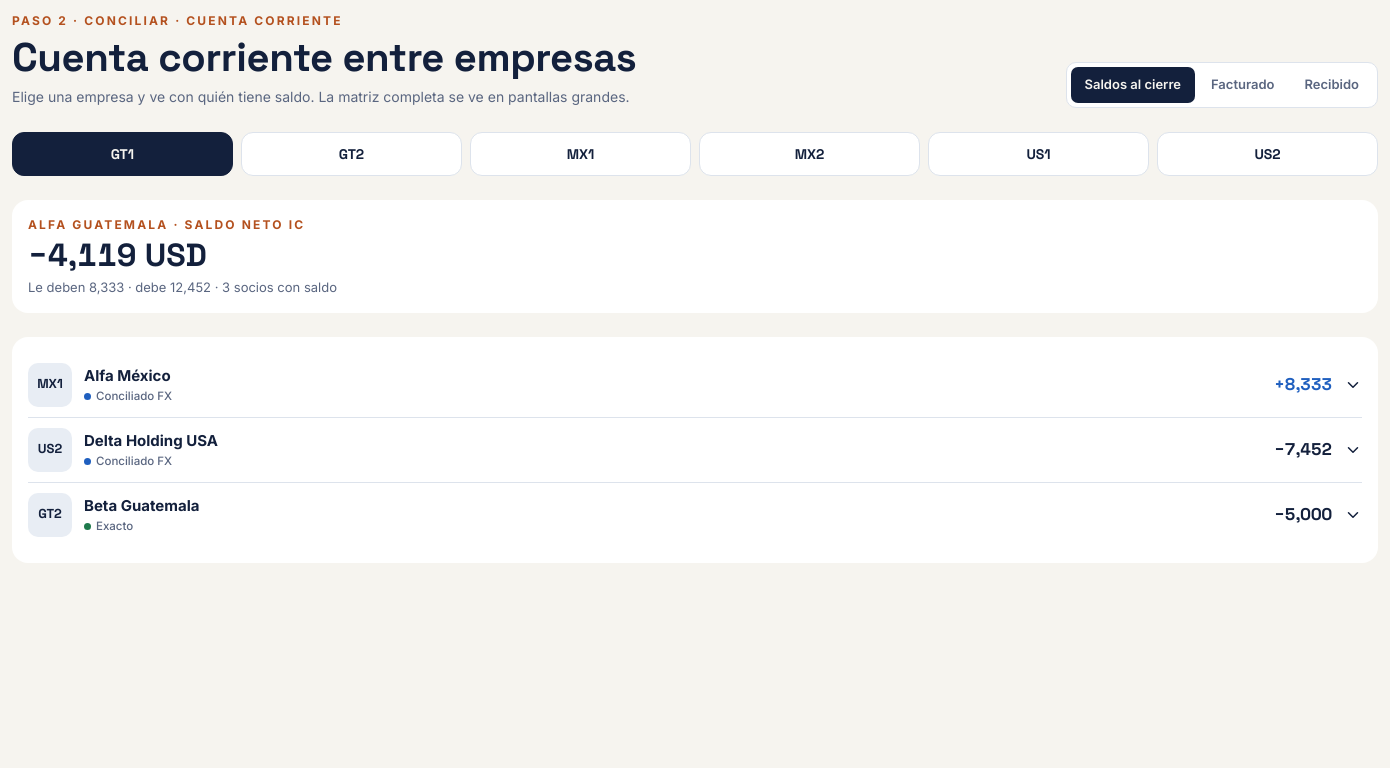
Test: CurrentAccountPage · móvil › al tocar un socio abre el detalle del par; cambiar de empresa cambia los socios
This screenshot has width=1390, height=768.
Check: the element named "Empresa que reporta" is shown, box [12,132,1378,176]
What coordinates should you click on to do the following:
click the button with aria-label "MX1 Alfa México, Conciliado FX, +8,333 USD"
I would click on:
 (50, 385)
Its box is [28,353,1362,417].
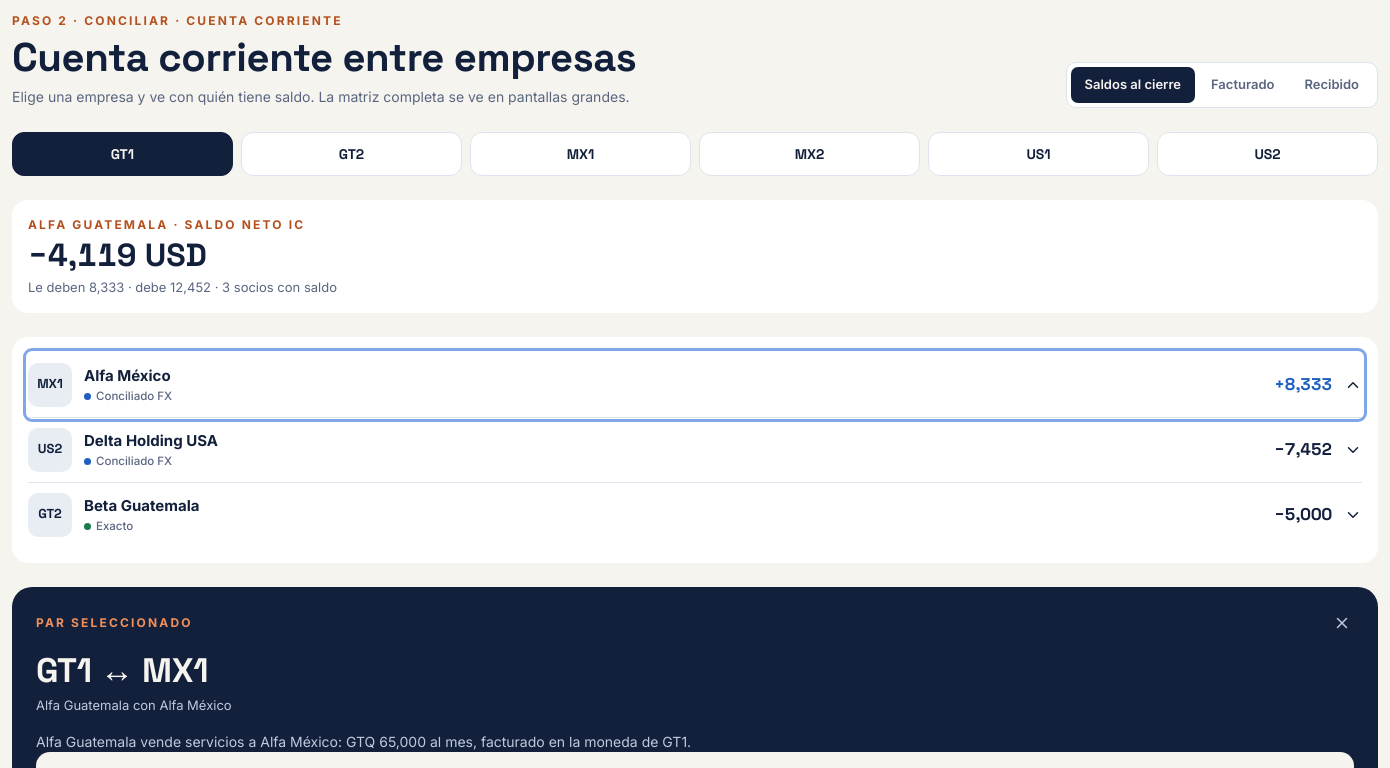
Check: the button "MX1 Alfa México Conciliado FX +8,333" is expanded, box [28,353,1362,417]
What coordinates should you click on to do the following:
click the button "MX2"
I would click on:
 (810, 154)
Its box is [699,132,920,176].
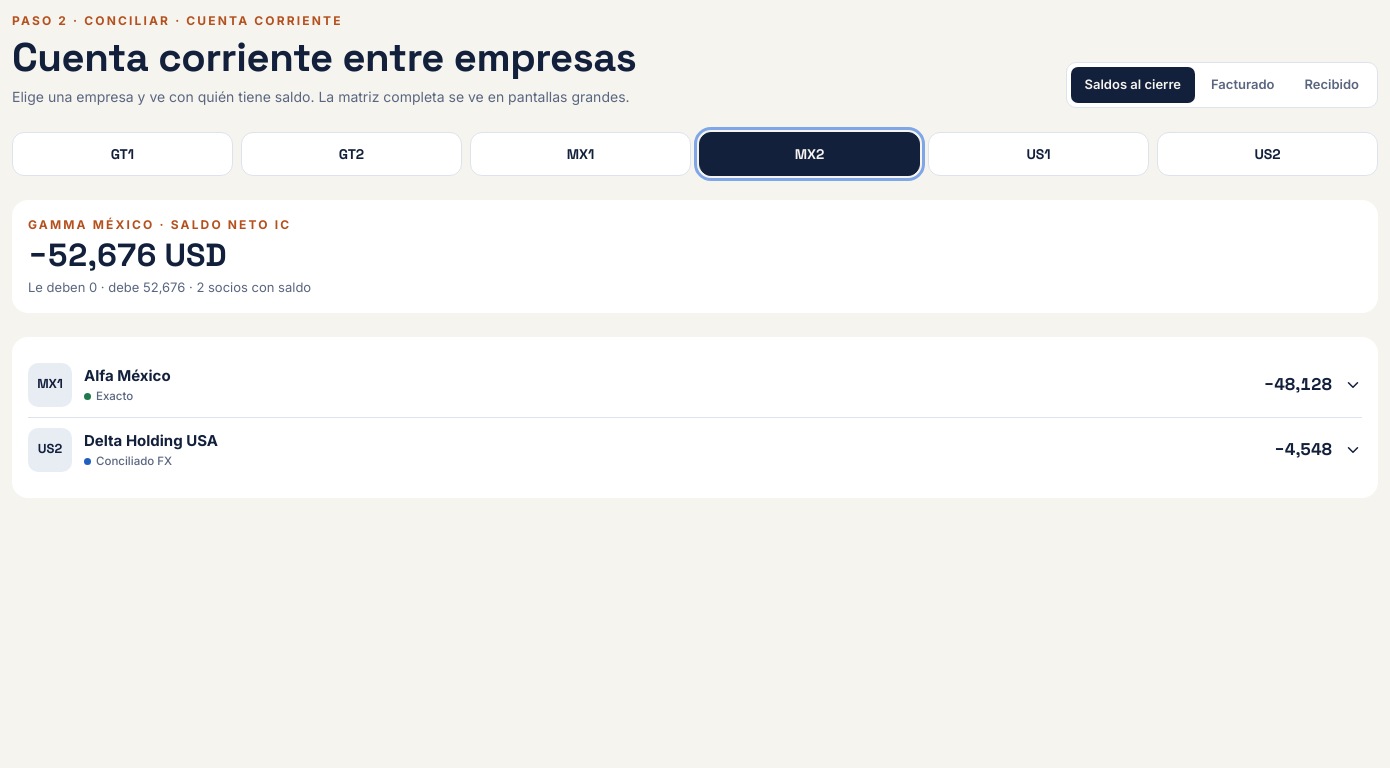
Check: the text "Gamma México · Saldo neto IC" is shown, box [28,217,291,232]
